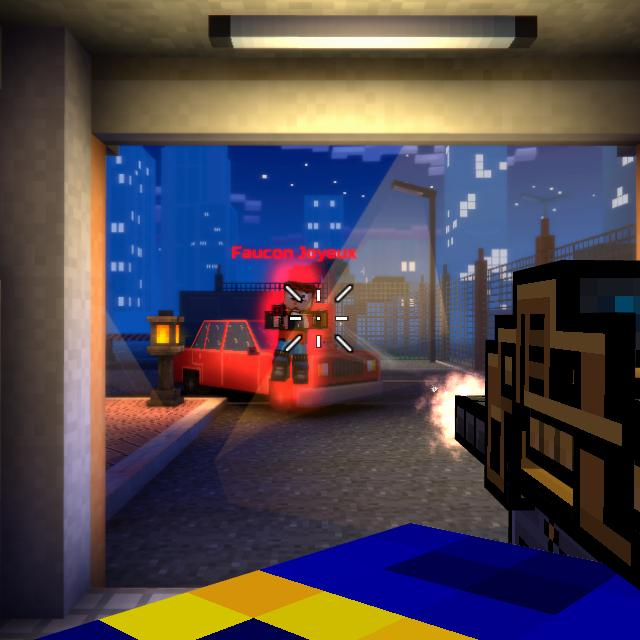Enemy: (264, 281, 328, 385)
